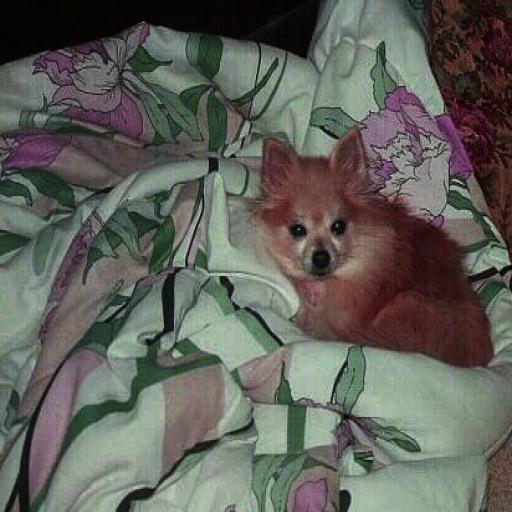dog_face: (254, 136, 381, 275)
